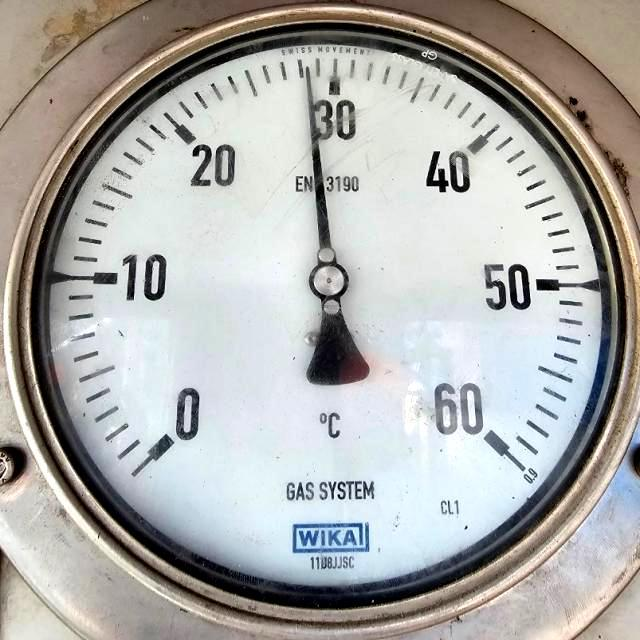Needle_Tip: (272, 53, 343, 120)
Needle_base: (297, 253, 359, 316)
max_value: (414, 382, 506, 441)
min_value: (161, 385, 209, 443)
